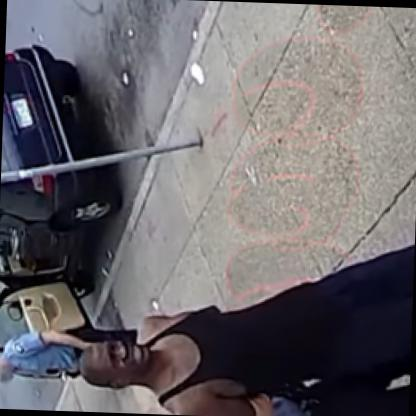Human Body: (75, 224, 415, 415), (0, 309, 142, 398)
